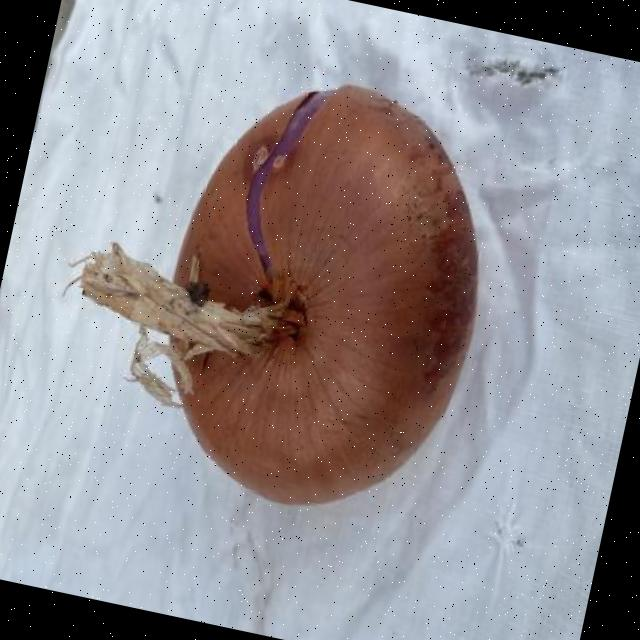Onion: (68, 82, 477, 503)
